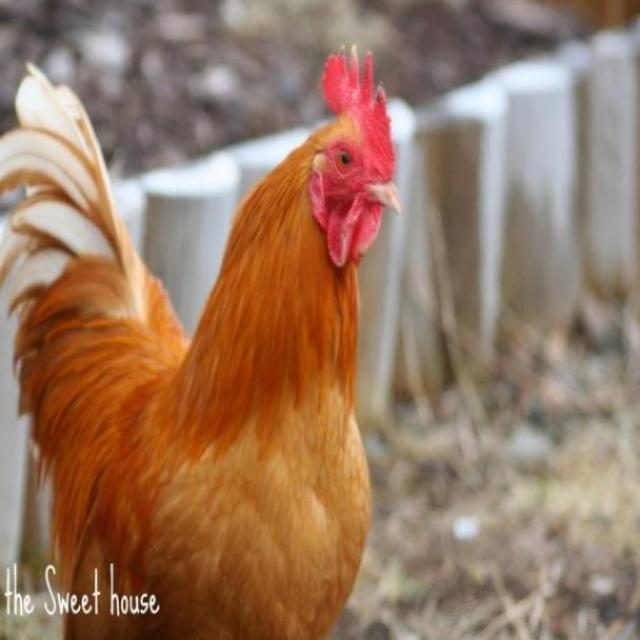Chicken: (0, 41, 395, 639)
